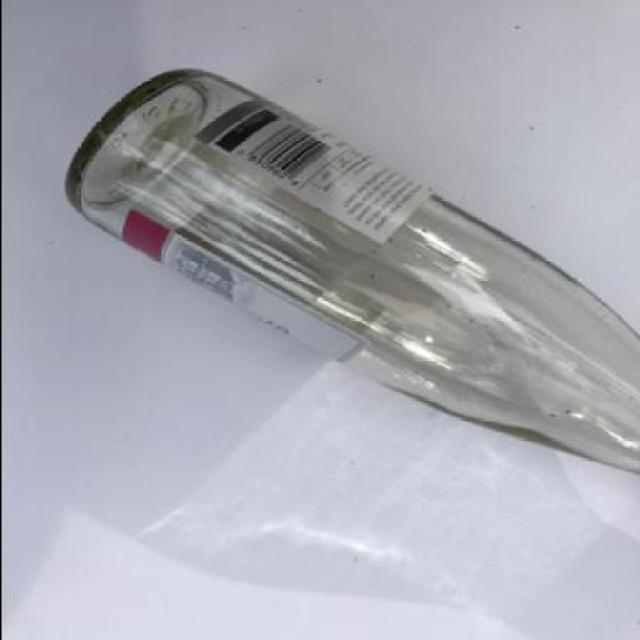GLASS: (63, 70, 639, 479)
